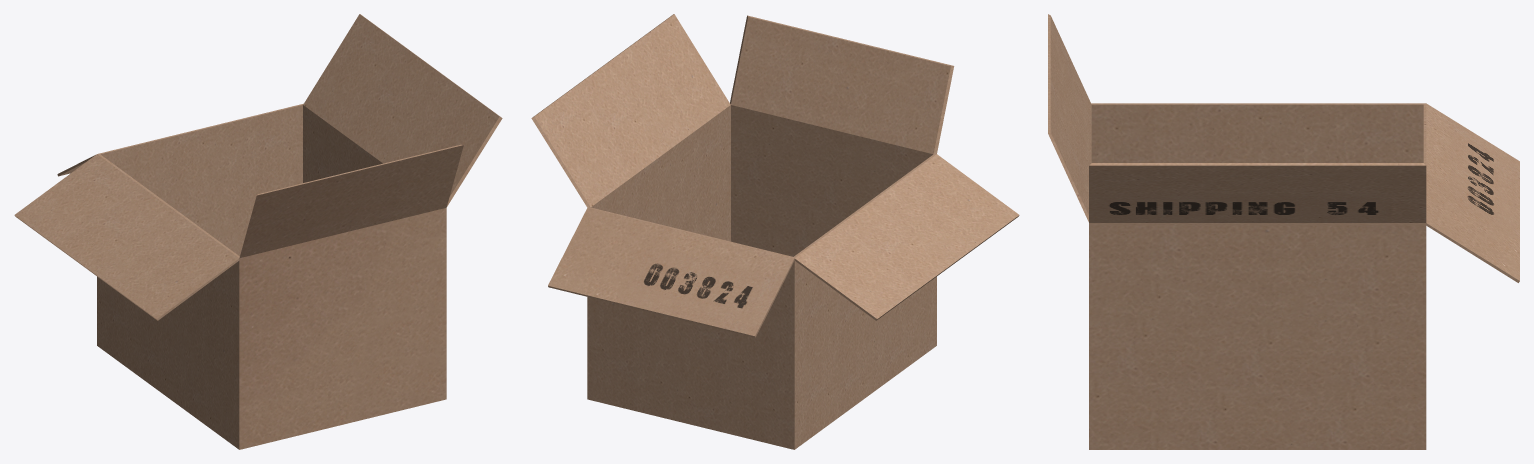
The picture shows the model from 3 angles, left to right: view 1: azimuth 30°, elevation 25°; view 2: azimuth 150°, elevation 25°; view 3: azimuth 270°, elevation 25°; orthographic projection. The views are drawn at different scales.
Parts seen in each view (by area): view 1: pCube2; view 2: pCube2; view 3: pCube2.
Boxes of the visible parts, <box> form: pCube2: <box>14,14,502,449</box>; pCube2: <box>531,14,1019,449</box>; pCube2: <box>1048,14,1519,449</box>.
Size of the model in its own units: 1.67 by 1.24 by 1.67.
